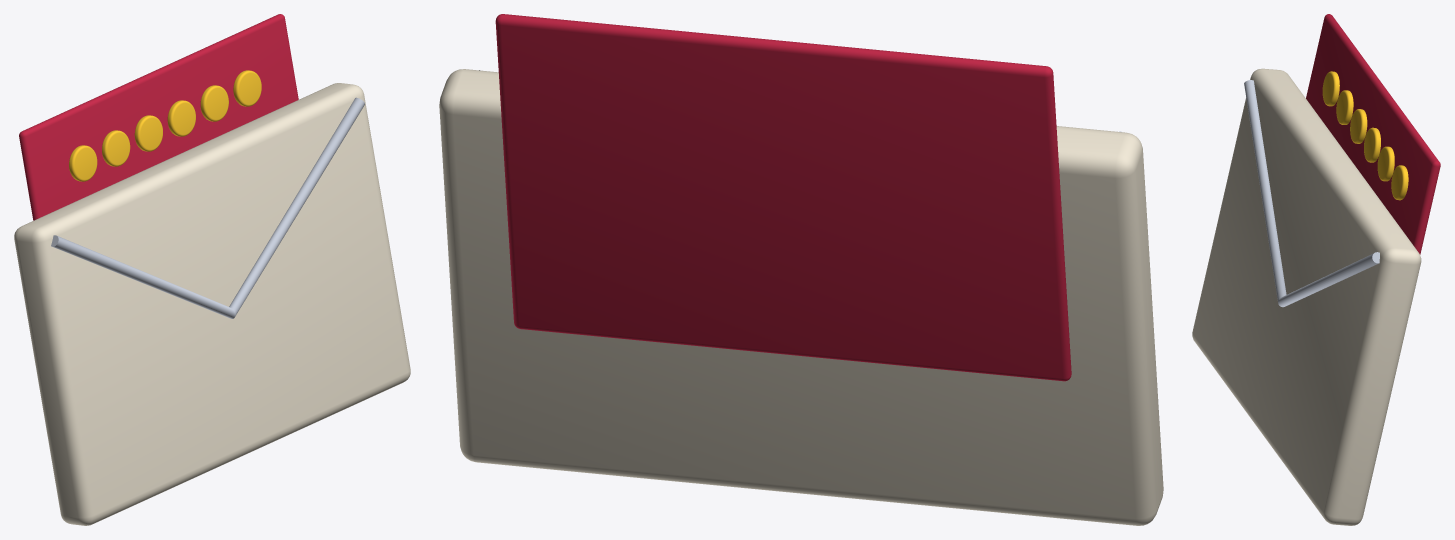
Rendered from onboarding-email.glb.
The picture shows the model from 3 angles, left to right: view 1: azimuth 30°, elevation 25°; view 2: azimuth 150°, elevation 25°; view 3: azimuth 270°, elevation 25°; orthographic projection. The views are drawn at different scales.
Visible parts, largest first — view 1: Cube.001, Cube, tube, Cylinder.004, Cylinder, Cylinder.005, Cylinder.003, Cylinder.001, Cylinder.002; view 2: Cube, Cube.001; view 3: Cube.001, Cube, tube, Cylinder.004, Cylinder, Cylinder.005, Cylinder.001, Cylinder.002, Cylinder.003.
Boxes of the visible parts, box(x1,y1,x2,y2) form: Cube.001: box(14, 83, 410, 525); Cube: box(19, 14, 298, 220); tube: box(51, 97, 364, 318); Cylinder.004: box(200, 85, 228, 121); Cylinder: box(69, 145, 97, 181); Cylinder.005: box(233, 70, 261, 106); Cylinder.003: box(167, 100, 195, 136); Cylinder.001: box(102, 130, 130, 166); Cylinder.002: box(134, 115, 162, 151); Cube: box(495, 14, 1071, 381); Cube.001: box(439, 69, 1163, 525); Cube.001: box(1192, 68, 1421, 525); Cube: box(1306, 14, 1440, 254); tube: box(1244, 80, 1379, 307); Cylinder.004: box(1377, 146, 1394, 181); Cylinder: box(1322, 71, 1339, 106); Cylinder.005: box(1391, 165, 1408, 200); Cylinder.001: box(1336, 90, 1353, 124); Cylinder.002: box(1350, 109, 1367, 143); Cylinder.003: box(1364, 127, 1380, 162).
Size of the model in its own units: 2.02 by 1.59 by 1.07.
